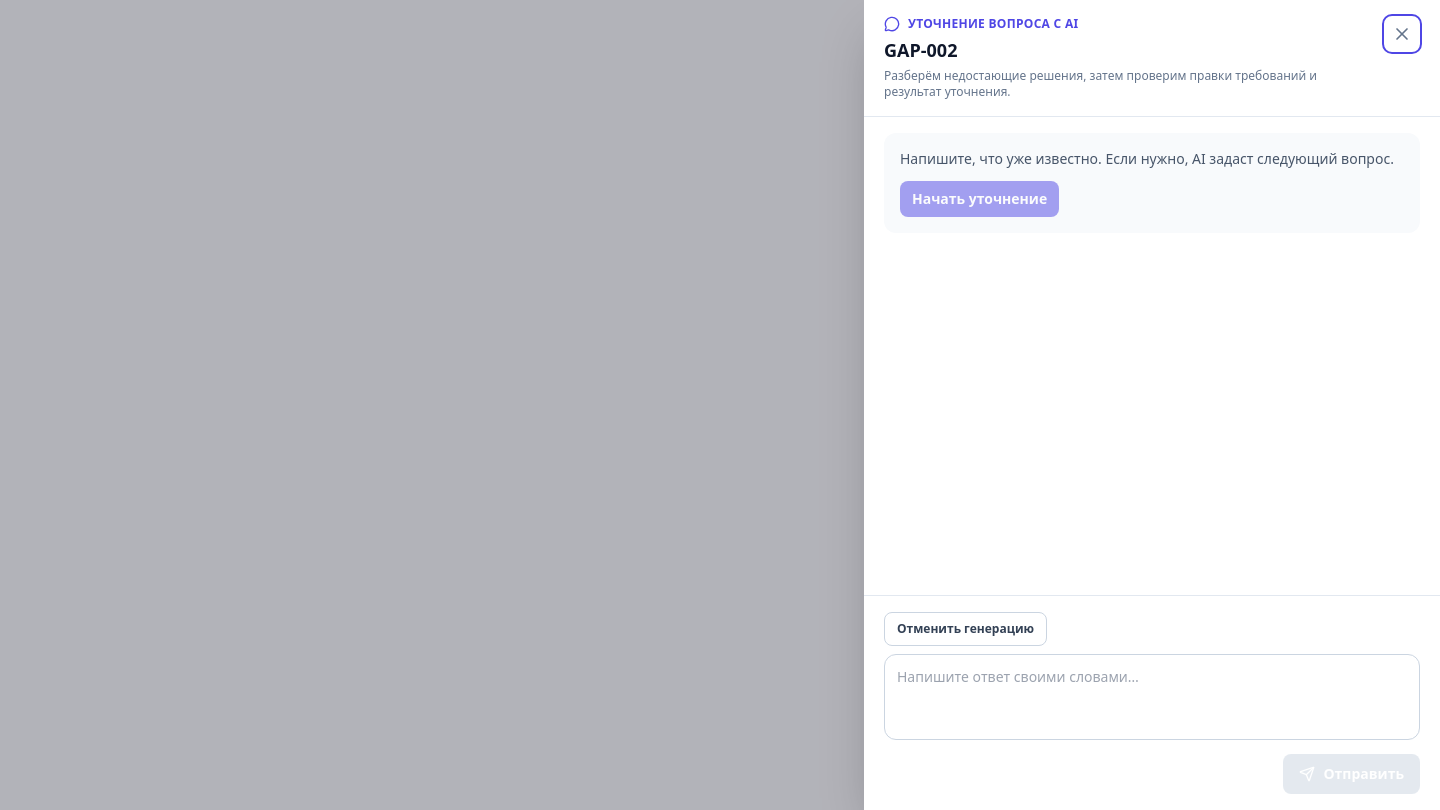
Scenario: reconnect reconciliation recovers a missed cancellation and a completed response is not falsely cancelled
Click the button "Отменить генерацию": (966, 629) x1=884 y1=612 x2=1047 y2=646
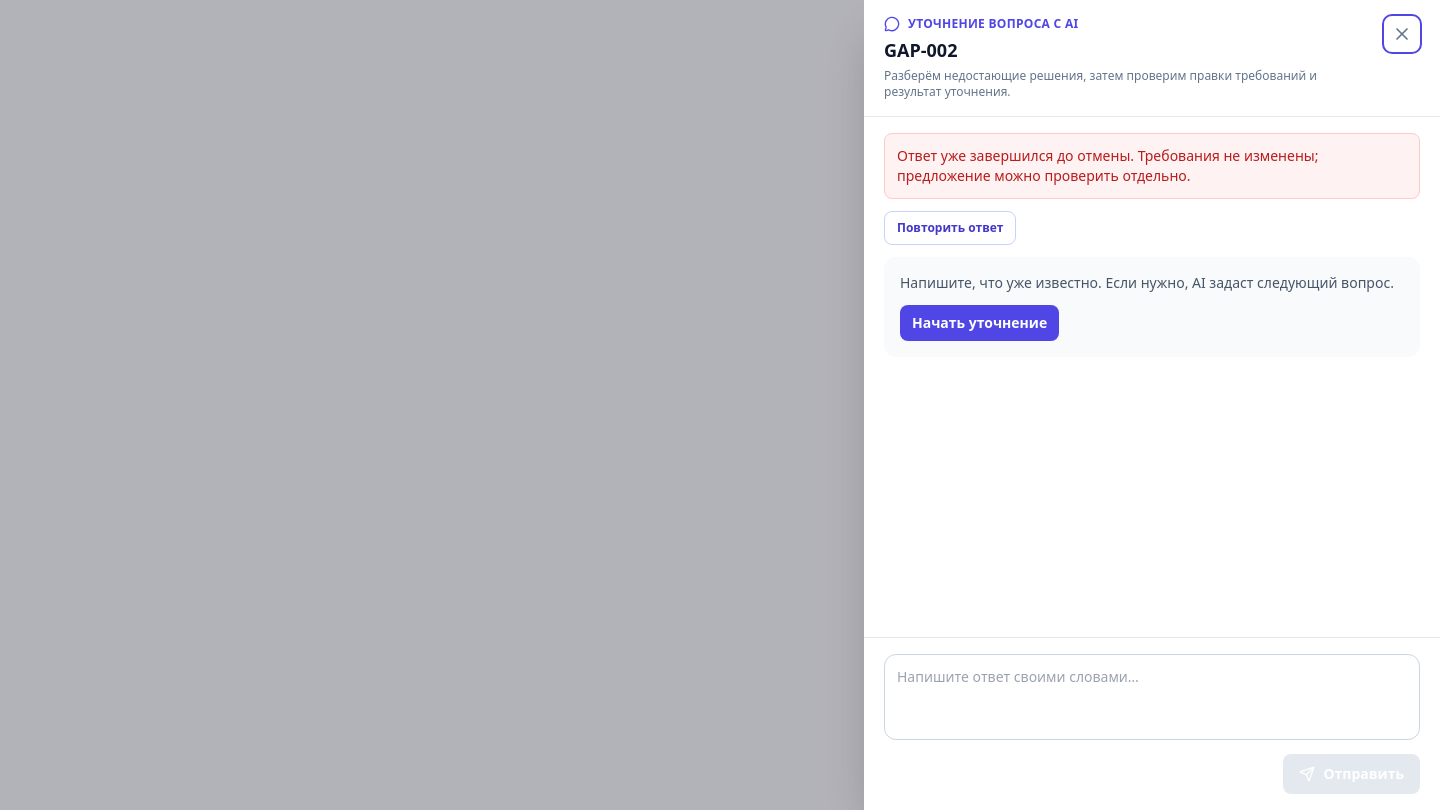
Now the message is shown, box x1=884 y1=133 x2=1420 y2=199
Now the button "Повторить ответ" is shown, box x1=884 y1=211 x2=1016 y2=245
